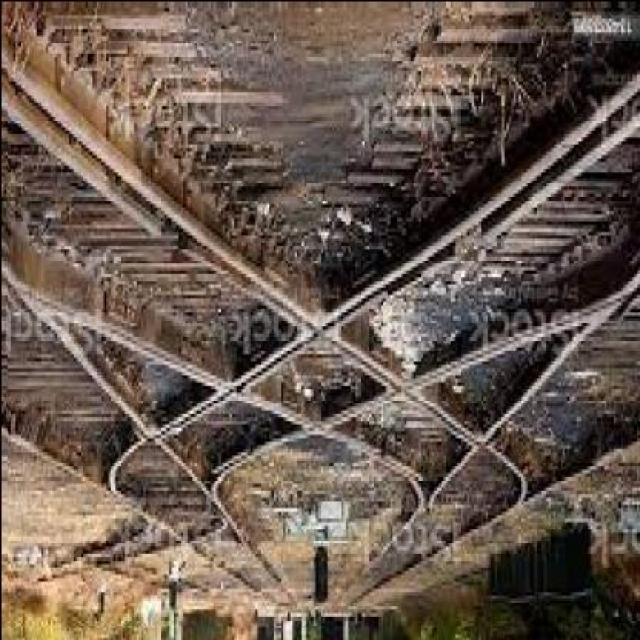rail: (8, 4, 639, 625)
